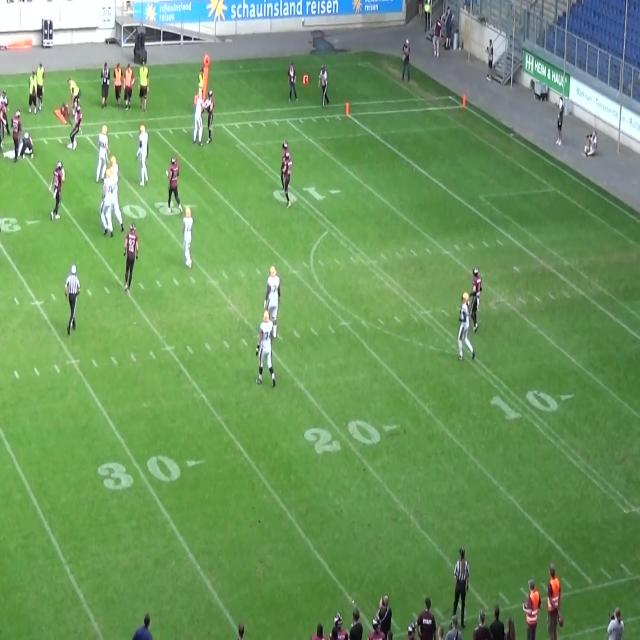1: (488, 389, 524, 424)
2: (301, 426, 342, 456)
3: (95, 458, 136, 492)
american-football-players: (255, 312, 275, 388), (262, 266, 280, 346), (120, 224, 139, 298), (464, 268, 484, 337), (456, 293, 475, 363), (49, 160, 65, 222), (100, 170, 114, 239), (165, 154, 181, 213), (181, 204, 195, 269), (110, 157, 122, 226), (138, 127, 150, 189), (68, 104, 83, 152), (10, 105, 22, 162), (98, 123, 110, 176), (193, 90, 204, 145), (204, 91, 215, 146), (282, 150, 292, 208), (280, 138, 290, 193), (19, 132, 37, 160), (0, 96, 9, 149)
